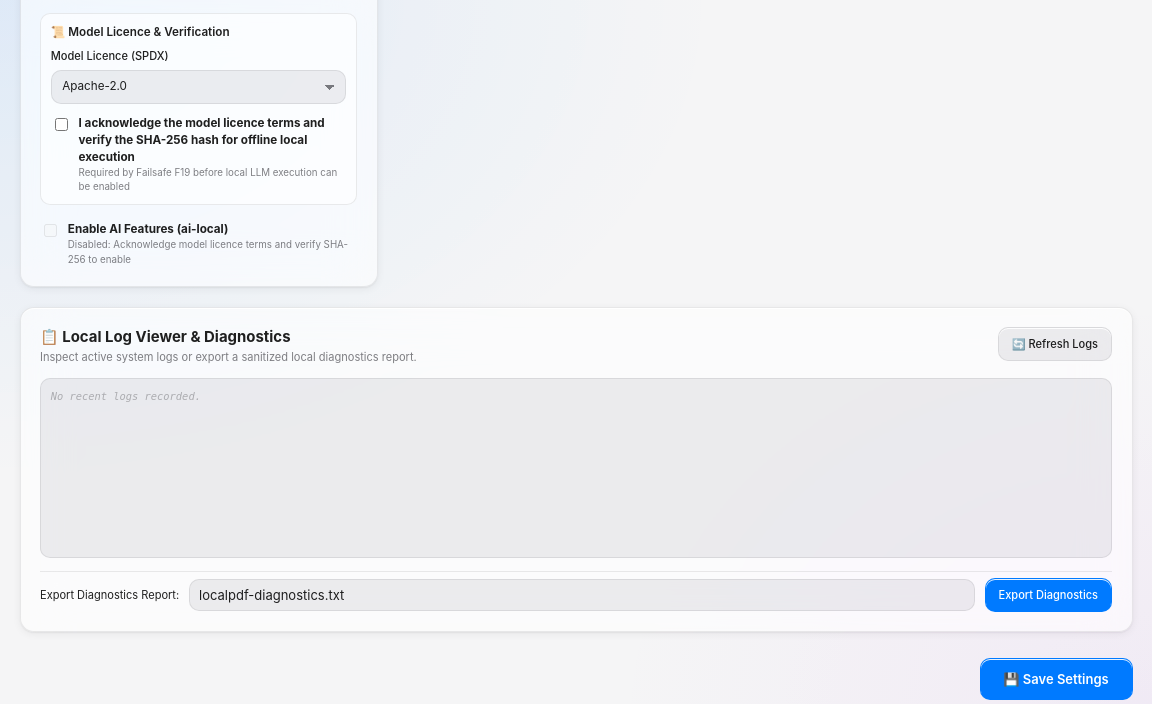
Test case: SettingsView › exports diagnostics report via IpcClient
Click the button "Export Diagnostics". click: point(1048, 595)
box: [984,578,1112,612]
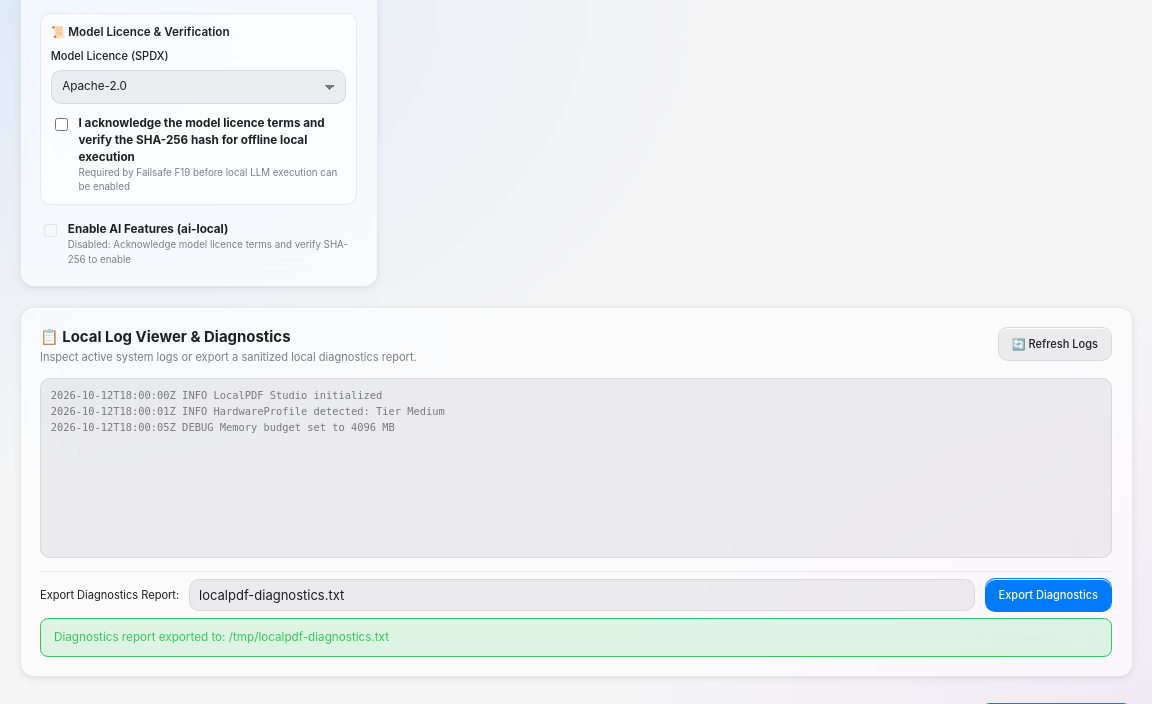
Now the text "Diagnostics report exported to: /tmp/localpdf-diagnostics.txt" is shown, box [40,618,1112,657]
